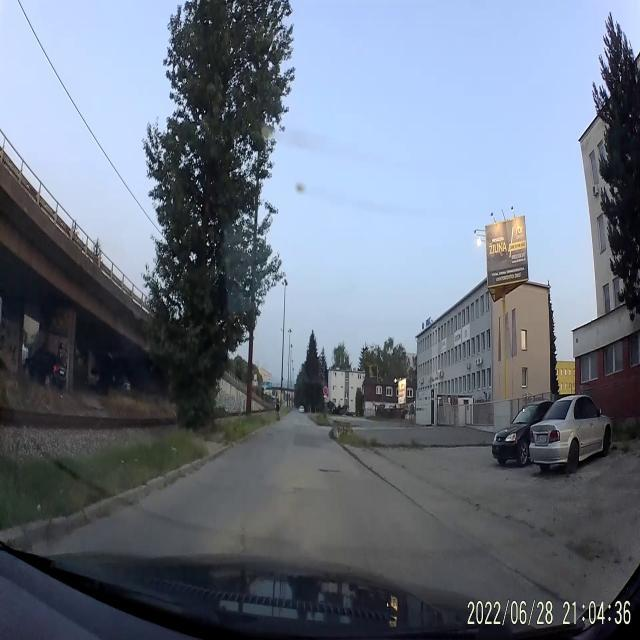Pothole: (317, 464, 338, 478), (290, 481, 305, 496)
